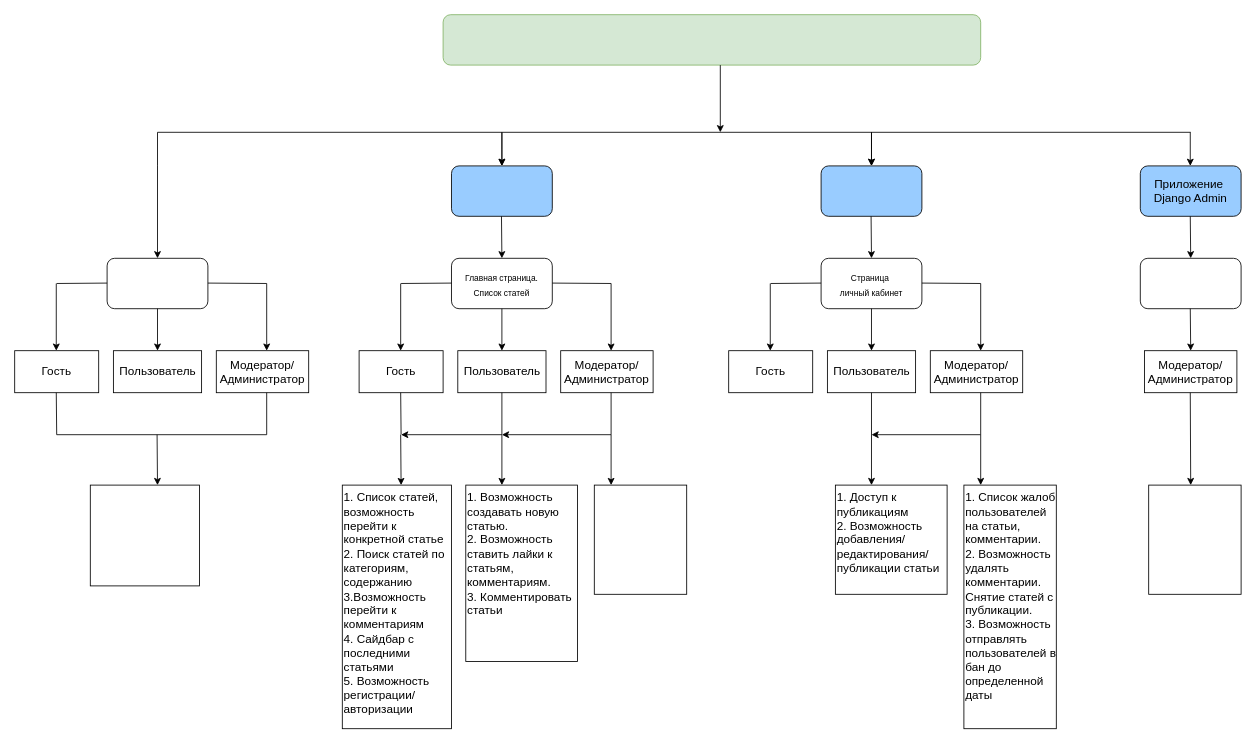
Some shapes in this 1256 by 743 pixel diagram are drawn without their labels. Each missing label, with the centre of its shape:
"1. Переход в админ. панель. Блокировка пользователей. Удаление комментариев" belongs at (x=640, y=539).
"HABA-HABA" belongs at (x=711, y=39).
"Административный интерфейс" belongs at (x=1190, y=283).
"Доступ к просмотру, изменению, удалению любой информации с сайта" belongs at (x=1194, y=539).
"Приложение MainApp" belongs at (x=501, y=190).
"Приложение UserApp" belongs at (x=871, y=190).
"Страница Раздел помощи (FAQ)" belongs at (x=157, y=283).
"Страница с часто задаваемыми вопросами. Доступна любому посетителю" belongs at (x=144, y=535).
